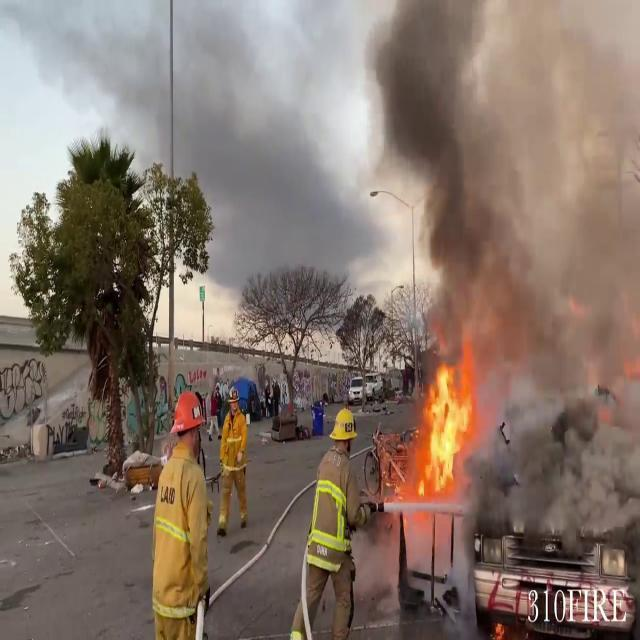Fire: (402, 352, 478, 504)
Smoke: (436, 0, 640, 487)
